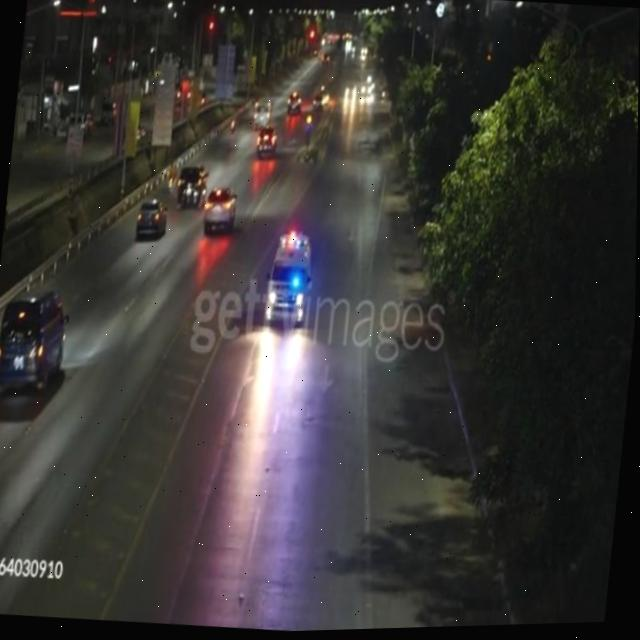emergency: (264, 230, 316, 335)
